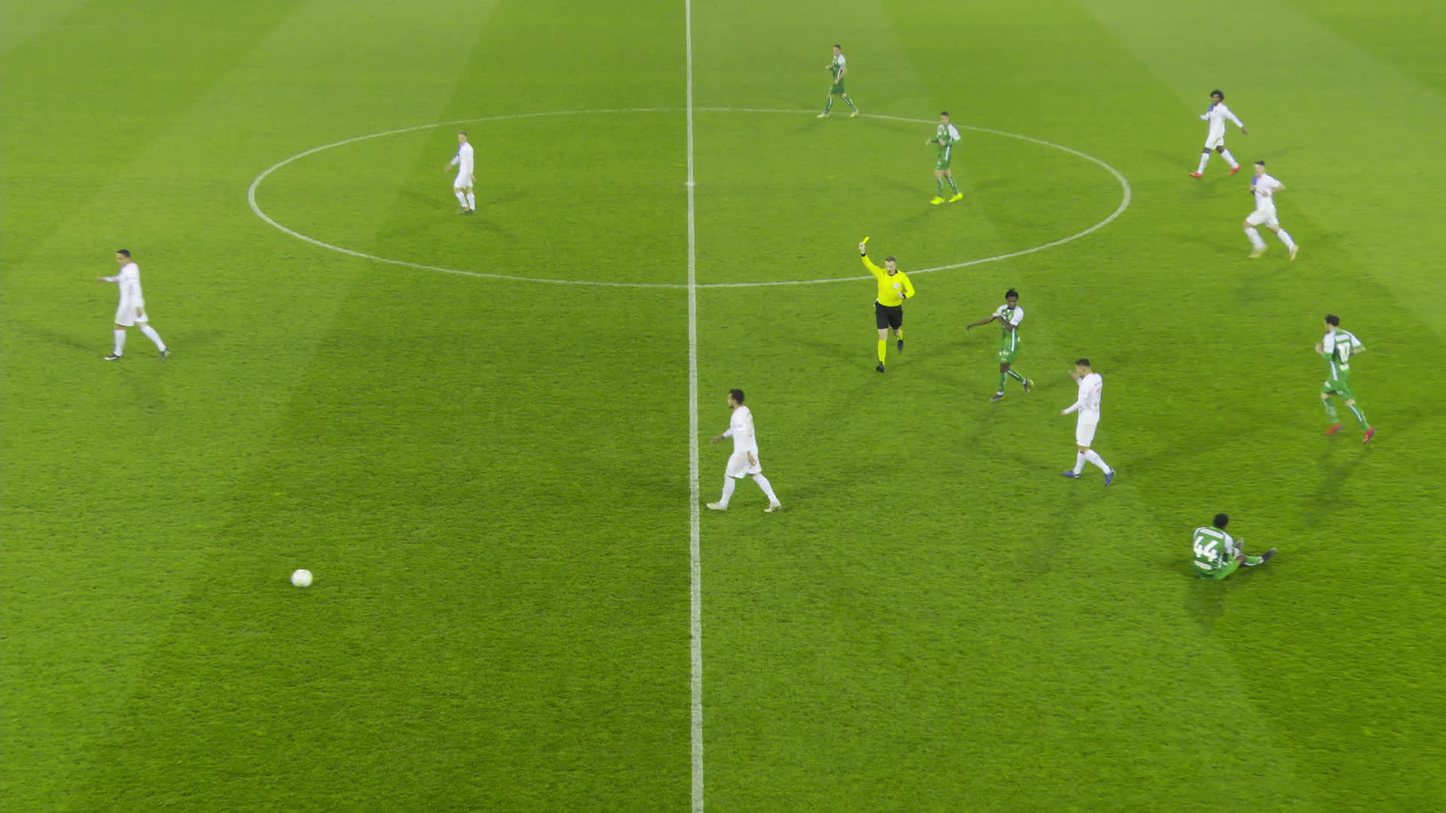ball: (297, 570, 316, 586)
player: (706, 389, 781, 520), (1052, 359, 1115, 485), (105, 248, 171, 365), (1315, 323, 1374, 443), (980, 282, 1030, 402), (1183, 513, 1269, 581), (1249, 165, 1298, 263), (1186, 90, 1235, 181), (442, 129, 486, 210), (926, 120, 966, 209), (816, 45, 852, 120)
referee: (856, 239, 914, 370)
